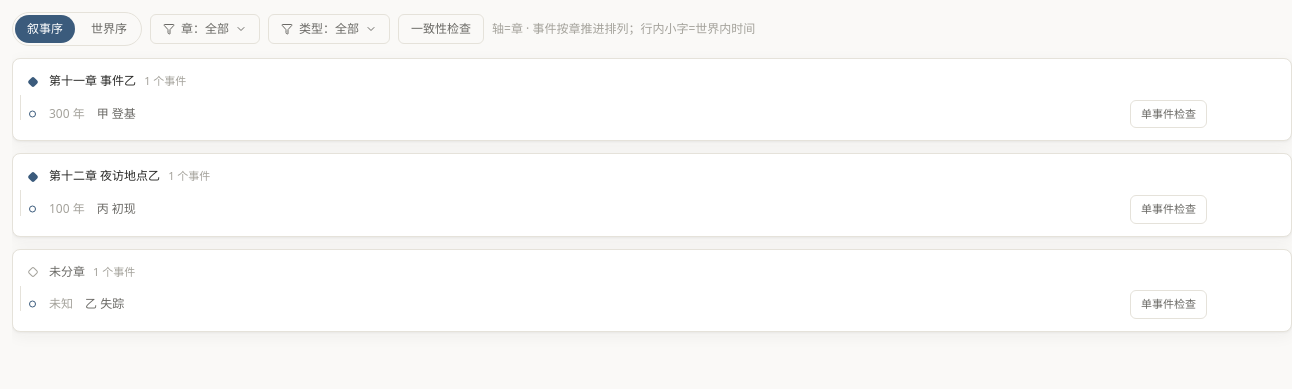
#1301 + #1374 时间线双序轴向渲染 › A2 世界序：主轴 = 世界内时间（非降级）；叙事序：时间降为行内小字（#1374 分流）
Expected: the text with test id "tl-axis-main-evC" reads "100 年", x1=49 y1=200 x2=85 y2=217
世界序（#1541）：刻度带 —— 事件行**不**渲染 tl-axis-main（时间刻度移到竖轴）
Click the button with test id "tl-view-world" at (109, 29), box x1=79 y1=15 x2=139 y2=43
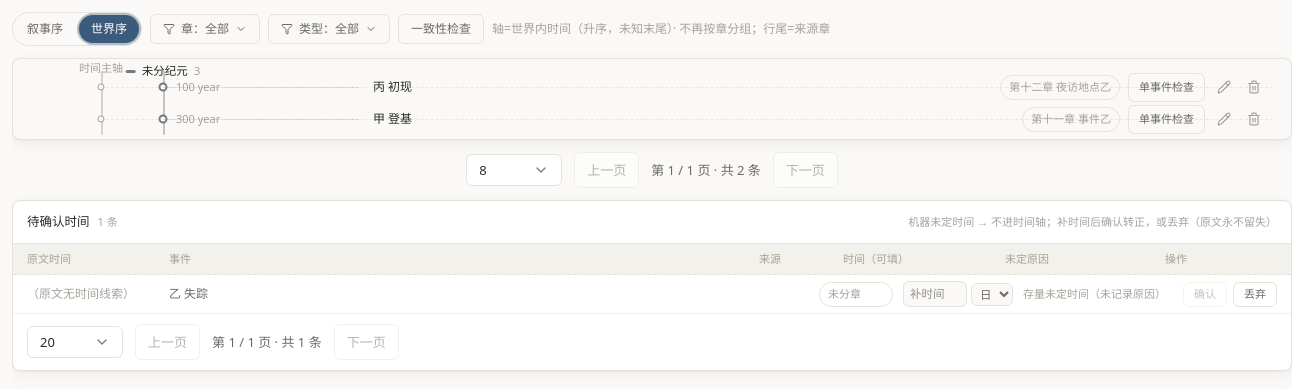
Now the element with test id "tl-band" is shown, box x1=12 y1=58 x2=1291 y2=140
Now the text with test id "tl-axis-main-evC" is gone
Now the text with test id "tl-band-tick-__none__-0" reads "100 year", box x1=176 y1=79 x2=220 y2=94
